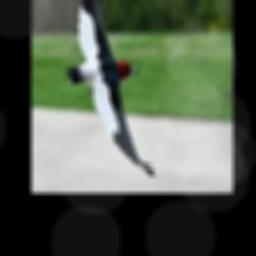Woodpecker: (65, 0, 154, 177)
